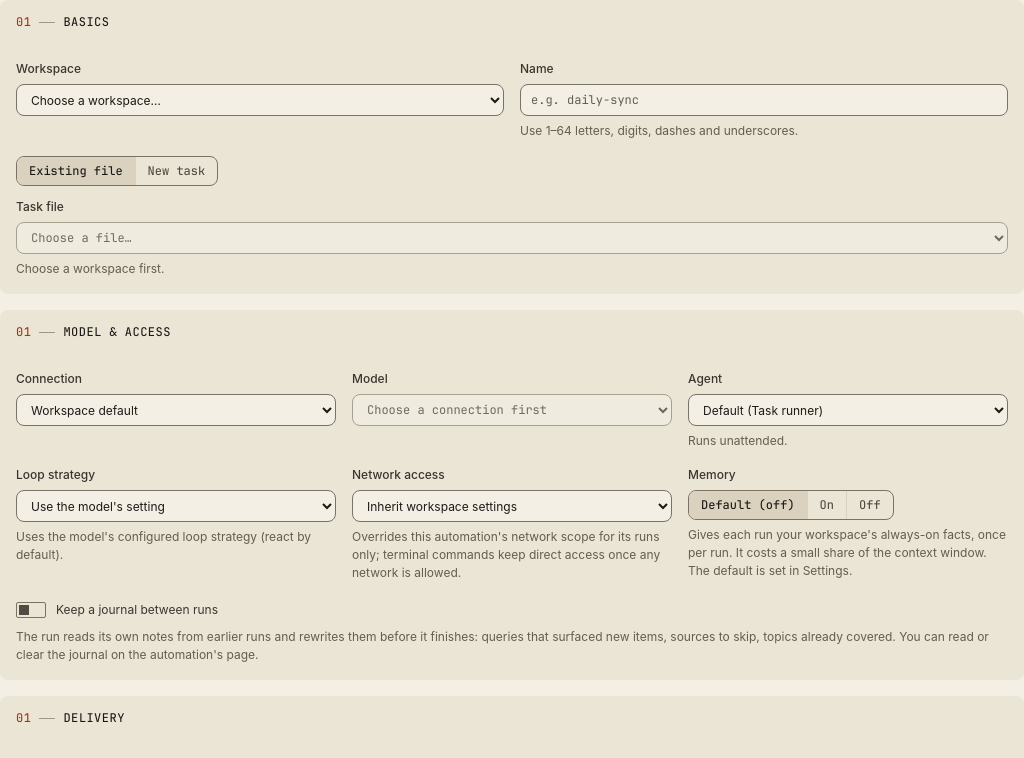
AutomationForm › writing the task in the form › will not save until the task has some text
This screenshot has width=1024, height=758.
Step 1. Select "ws" in the dropdown labelled "Workspace" → point(260, 100), box [16, 84, 504, 116]
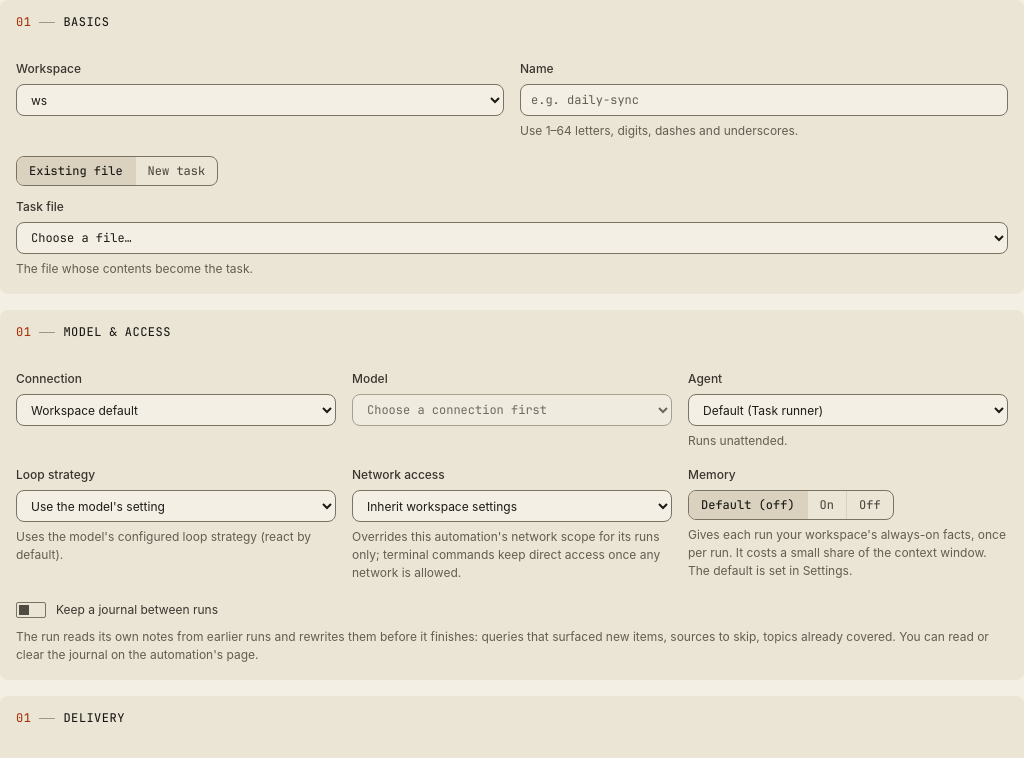
Step 2. Type "morning" into the field labelled "Name" → point(764, 100), box [520, 84, 1008, 116]
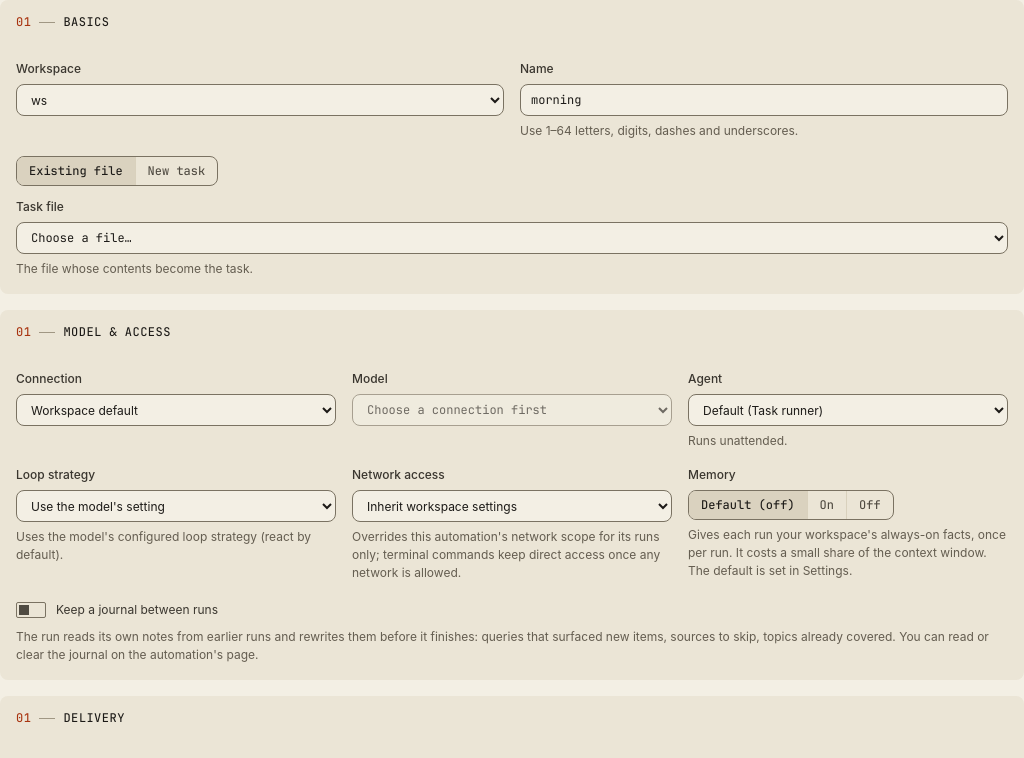
Step 3. Click the radio button labelled "New task" → point(176, 171), box [135, 157, 217, 185]
(page scrolled)
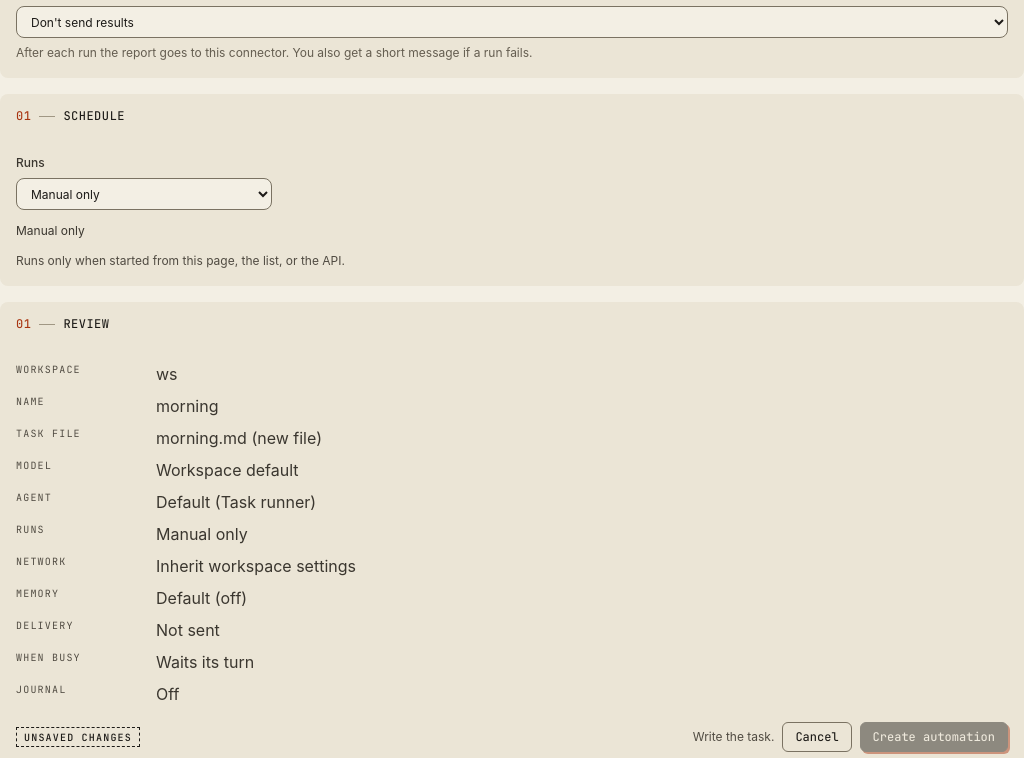
Expected: the button "Create automation" is disabled, [860, 722, 1008, 752]
Result: the text "Write the task." is shown at [693, 728, 774, 746]
